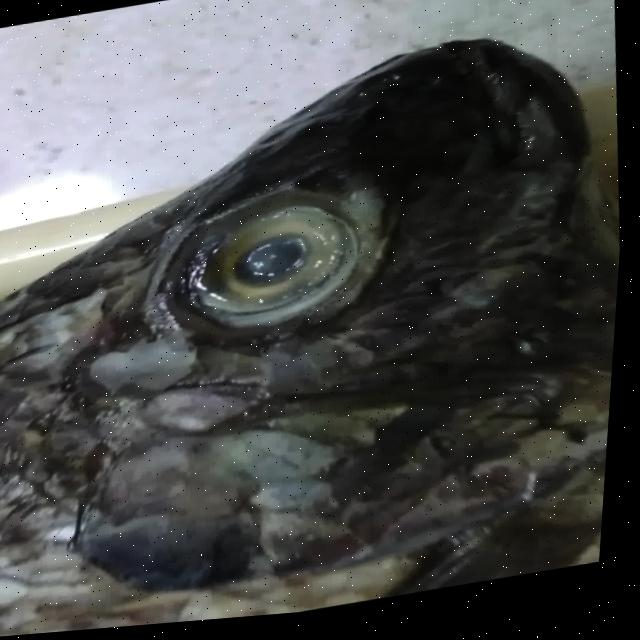Non-Fresh: (136, 167, 443, 372)
